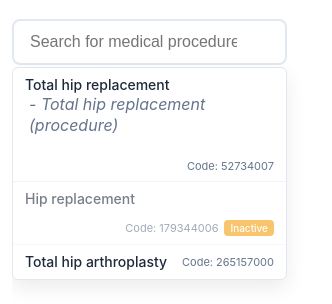
Scenario: SearchInput Component › Focus and Blur Handling › should close suggestions after delay on blur
In the dropdown: point(150, 42) [12,19,287,65], type "test"
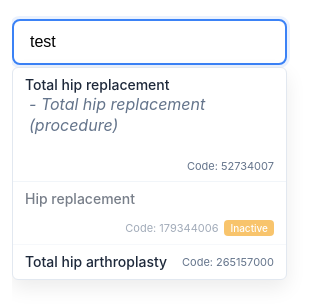
Expected: the list is shown, [12,67,287,280]
Press Tab
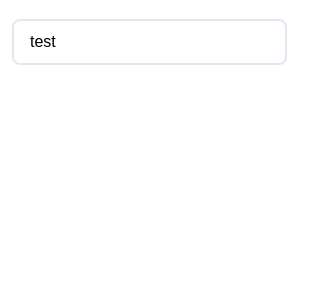
Result: the list is gone
